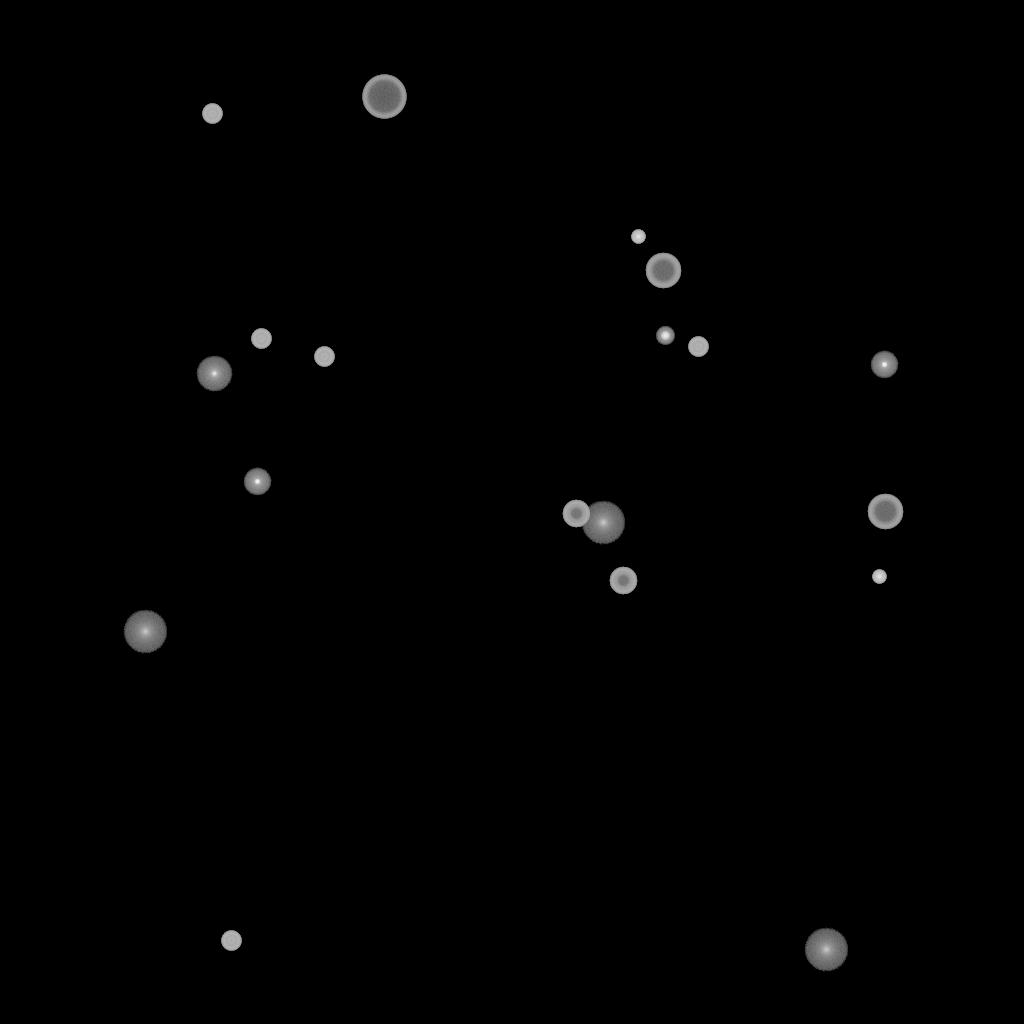depth:-10: (243, 468, 271, 496), (870, 351, 898, 379)
depth:-20: (656, 327, 674, 345)
depth:-30: (631, 230, 645, 244), (872, 570, 886, 584)
depth:-40: (221, 931, 241, 951), (688, 337, 708, 357), (314, 347, 334, 367), (202, 104, 222, 124), (251, 329, 271, 349)
depth:-50: (562, 500, 590, 528), (609, 567, 637, 595)
depth:-60: (867, 494, 903, 530), (645, 253, 681, 289)
depth:-70: (362, 75, 406, 119)
depth:0: (196, 356, 232, 392)
depth:10: (804, 928, 848, 972), (581, 501, 625, 545), (123, 610, 167, 654)
